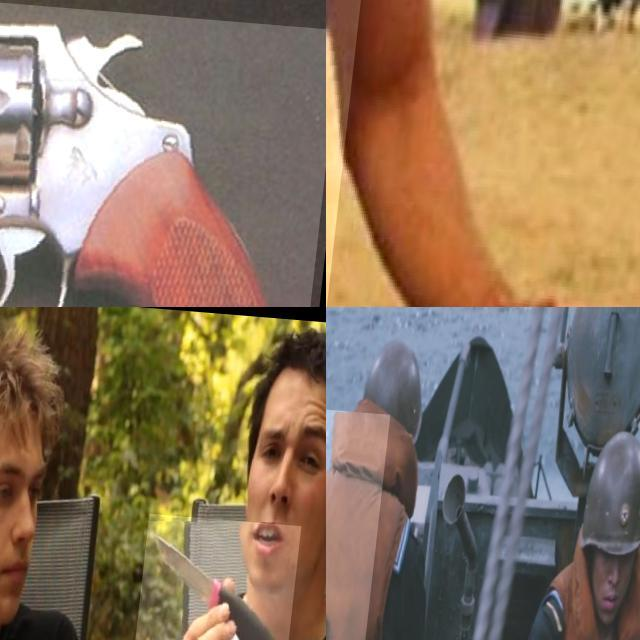-: (326, 0, 427, 307), (138, 508, 306, 640)
gun-knife-thesis - v11 Yolov5 augmented: (0, 0, 326, 307), (326, 403, 411, 640)
